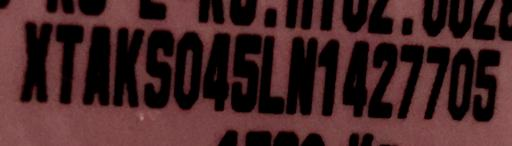letter: (284, 35, 318, 115), (366, 40, 400, 118), (20, 19, 52, 101), (230, 30, 262, 112), (112, 26, 144, 107), (172, 30, 204, 109), (470, 46, 502, 123), (81, 22, 111, 104), (256, 32, 286, 114), (144, 28, 174, 108), (202, 30, 232, 110), (340, 37, 370, 117), (56, 22, 84, 104), (422, 44, 452, 120), (396, 41, 424, 120), (447, 43, 475, 121), (316, 35, 340, 117)
